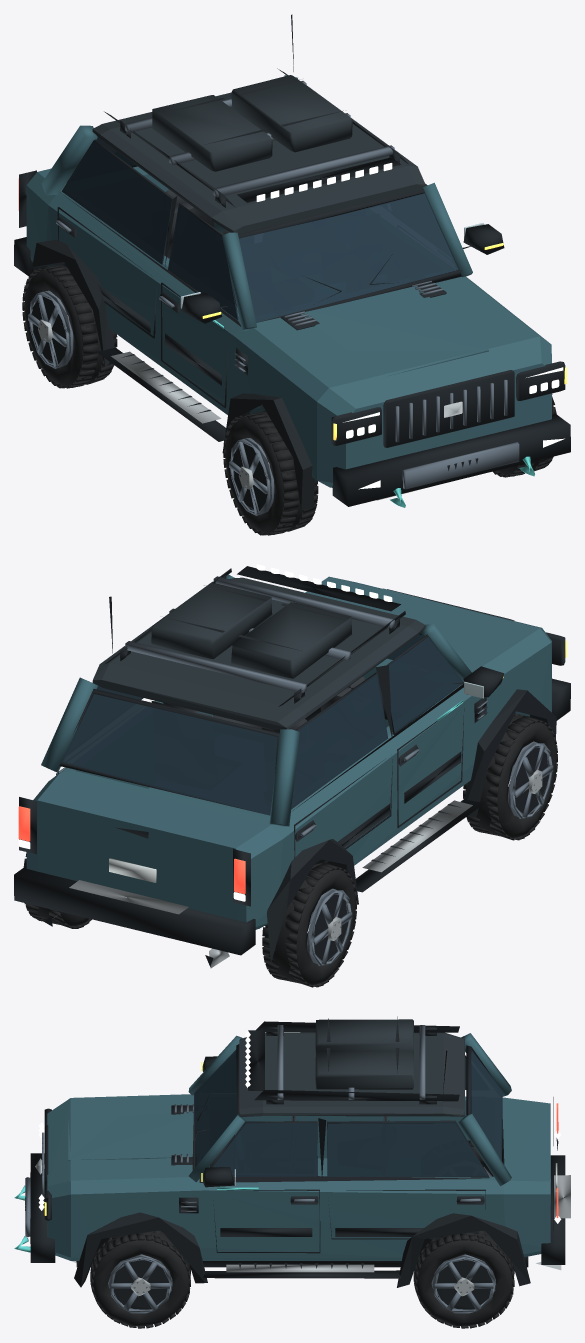
The model's file is nomad_4x4_lod1.glb.
3 views of the same model, one above another, from view 1: azimuth 30°, elevation 25°; view 2: azimuth 150°, elevation 25°; view 3: azimuth 270°, elevation 25° (orthographic). The views are drawn at different scales.
Parts seen in each view (by area): view 1: Body__Body_ArcticTeal, Body__Trim_Charcoal, Body__Glass_Smoke, Body__Roof_Graphite, Body__Metal_Gunmetal, Wheel_RR__Tyre_Rubber, Wheel_FR__Tyre_Rubber, Body__Metal_Brushed, Wheel_RR__Metal_Gunmetal, Wheel_FR__Metal_Gunmetal, Body__LED_White, Wheel_RR__Trim_Charcoal (+1 smaller); view 2: Body__Body_ArcticTeal, Body__Trim_Charcoal, Body__Glass_Smoke, Body__Roof_Graphite, Wheel_RR__Tyre_Rubber, Wheel_FR__Tyre_Rubber, Body__Metal_Gunmetal, Body__Metal_Brushed, Wheel_FR__Metal_Gunmetal, Wheel_RR__Metal_Gunmetal, Wheel_FR__Trim_Charcoal, Wheel_RR__Trim_Charcoal (+5 smaller); view 3: Body__Body_ArcticTeal, Body__Trim_Charcoal, Body__Glass_Smoke, Body__Roof_Graphite, Wheel_FL__Tyre_Rubber, Wheel_RL__Tyre_Rubber, Body__Metal_Brushed, Body__Metal_Gunmetal, Wheel_FL__Metal_Gunmetal, Wheel_RL__Metal_Gunmetal, Wheel_FL__Trim_Charcoal, Wheel_RL__Trim_Charcoal (+1 smaller).
Part boxes in pixels (<box>): Body__Body_ArcticTeal: <box>26,75,551,487</box>; Body__Trim_Charcoal: <box>14,14,570,510</box>; Body__Glass_Smoke: <box>62,137,458,322</box>; Body__Roof_Graphite: <box>92,75,425,234</box>; Body__Metal_Gunmetal: <box>56,81,519,489</box>; Wheel_RR__Tyre_Rubber: <box>22,264,117,388</box>; Wheel_FR__Tyre_Rubber: <box>223,410,318,535</box>; Body__Metal_Brushed: <box>111,351,462,500</box>; Wheel_RR__Metal_Gunmetal: <box>28,290,73,368</box>; Wheel_FR__Metal_Gunmetal: <box>229,438,274,515</box>; Body__LED_White: <box>18,163,564,489</box>; Wheel_RR__Trim_Charcoal: <box>32,296,66,363</box>; Body__Body_ArcticTeal: <box>26,574,551,929</box>; Body__Trim_Charcoal: <box>14,566,570,966</box>; Body__Glass_Smoke: <box>62,634,463,815</box>; Body__Roof_Graphite: <box>92,577,425,730</box>; Wheel_RR__Tyre_Rubber: <box>262,863,356,987</box>; Wheel_FR__Tyre_Rubber: <box>463,713,557,840</box>; Body__Metal_Gunmetal: <box>56,576,487,836</box>; Body__Metal_Brushed: <box>53,800,472,968</box>; Wheel_FR__Metal_Gunmetal: <box>508,741,553,818</box>; Wheel_RR__Metal_Gunmetal: <box>307,888,352,965</box>; Wheel_FR__Trim_Charcoal: <box>515,747,548,814</box>; Wheel_RR__Trim_Charcoal: <box>314,894,347,961</box>; Body__Body_ArcticTeal: <box>47,1033,550,1260</box>; Body__Trim_Charcoal: <box>25,1016,565,1287</box>; Body__Glass_Smoke: <box>194,1049,502,1177</box>; Body__Roof_Graphite: <box>239,1019,464,1116</box>; Wheel_FL__Tyre_Rubber: <box>90,1230,190,1328</box>; Wheel_RL__Tyre_Rubber: <box>413,1230,514,1328</box>; Body__Metal_Brushed: <box>35,1158,570,1272</box>; Body__Metal_Gunmetal: <box>25,1025,480,1237</box>; Wheel_FL__Metal_Gunmetal: <box>108,1254,172,1313</box>; Wheel_RL__Metal_Gunmetal: <box>431,1254,496,1313</box>; Wheel_FL__Trim_Charcoal: <box>113,1260,168,1309</box>; Wheel_RL__Trim_Charcoal: <box>437,1260,492,1309</box>.
Size of the model in its own units: 2.61 by 2.62 by 5.1.
